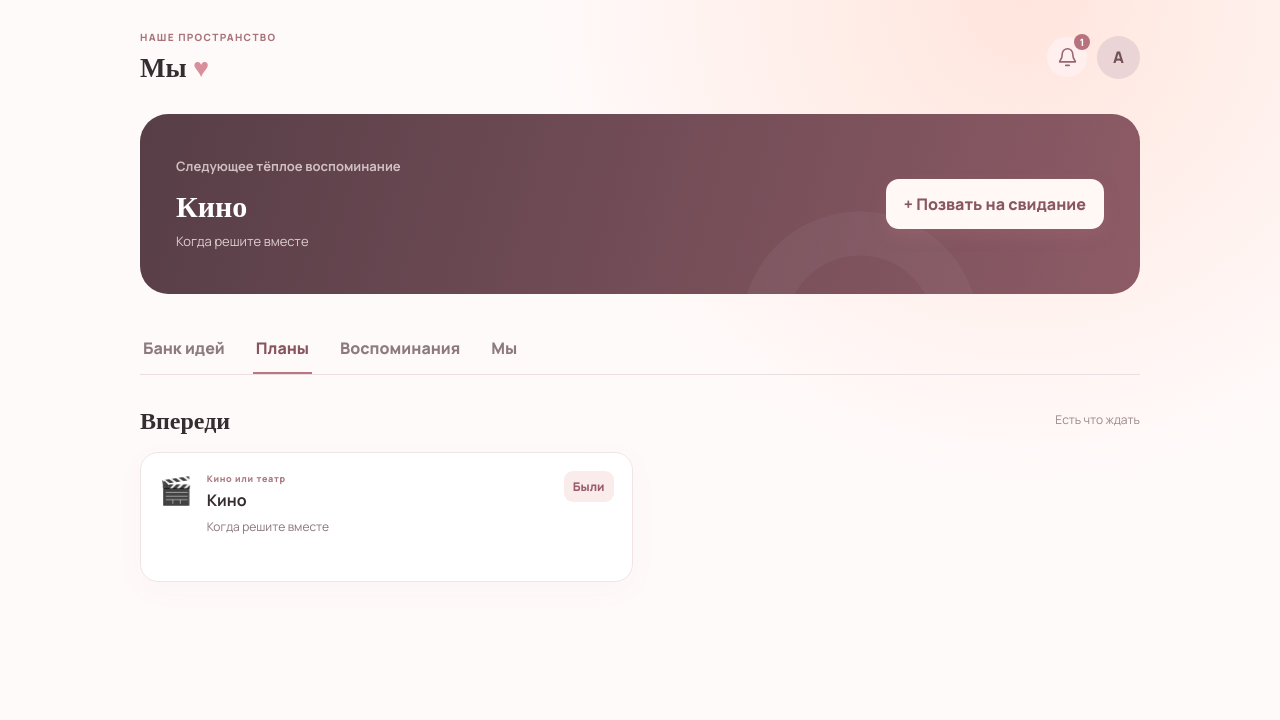
Test case: date details › opens the linked date after reading a notification
Click the button named "Уведомления".
click(1067, 57)  # box [1047,37,1087,77]
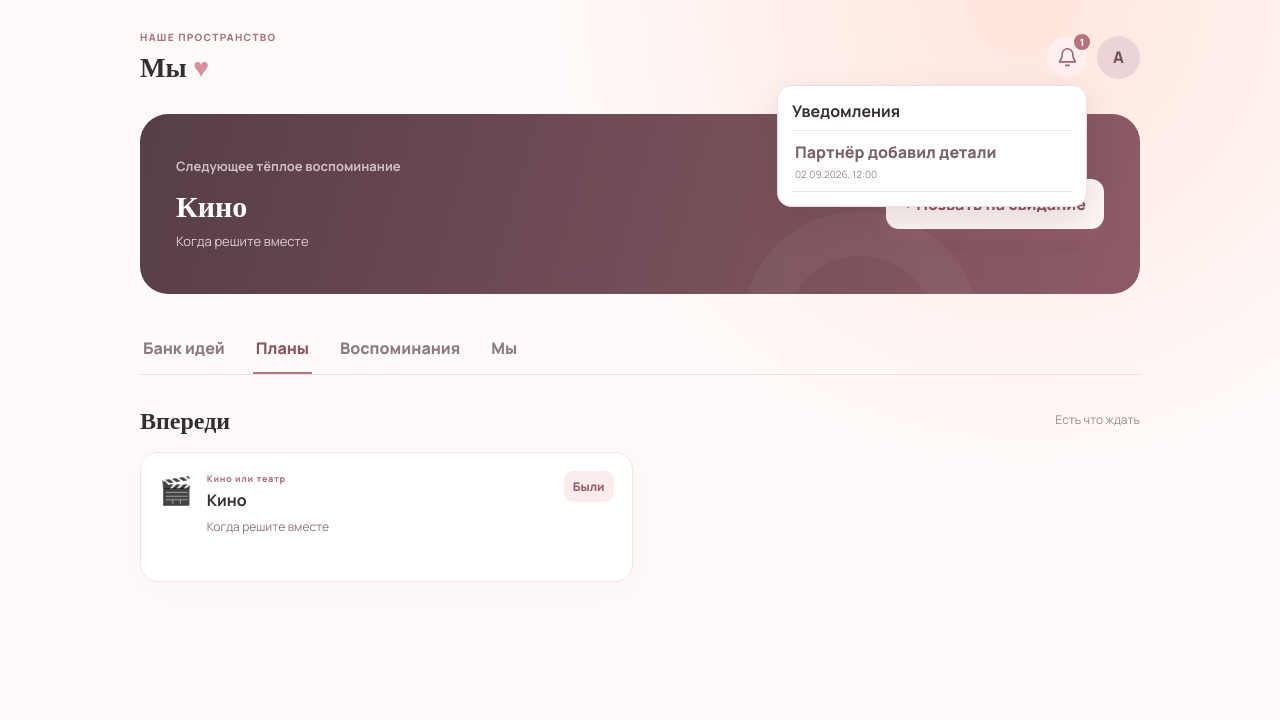
Click the button "Партнёр добавил детали 02.09.2026, 12:00".
click(932, 161)  # box [792,130,1072,192]
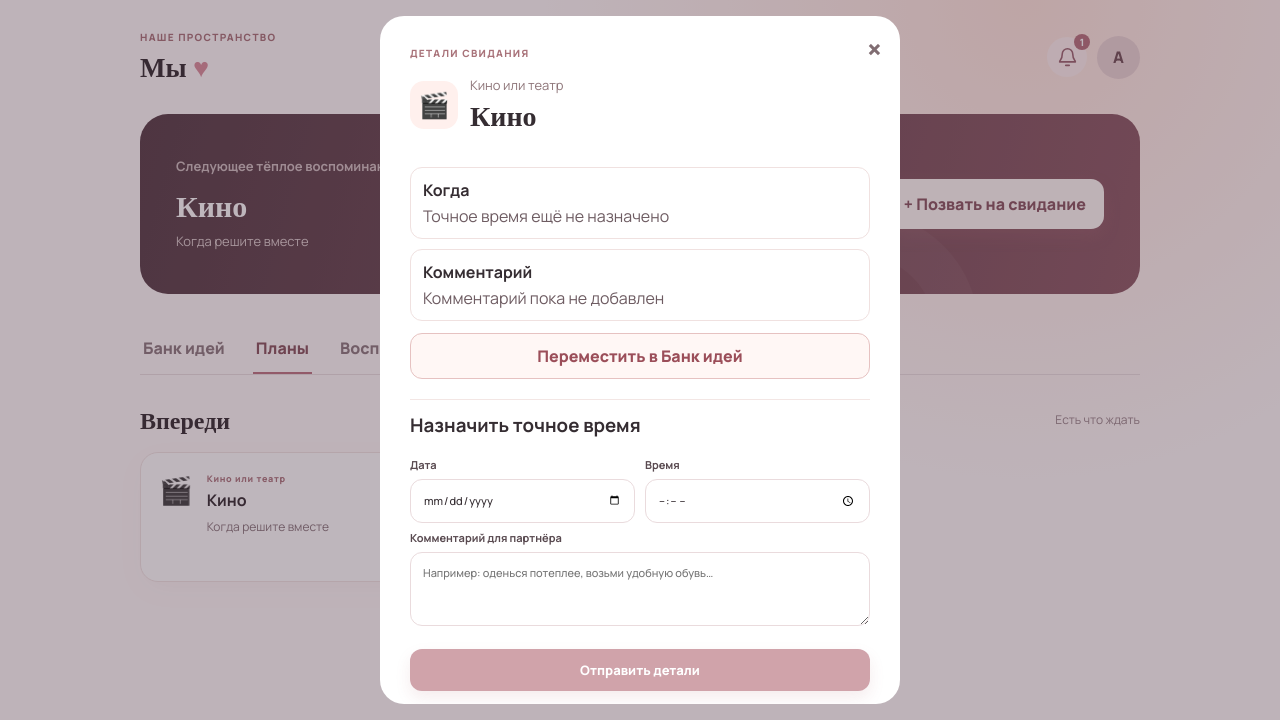
Expected: the dialog "ДЕТАЛИ СВИДАНИЯ" is shown, [380,16,900,704]
